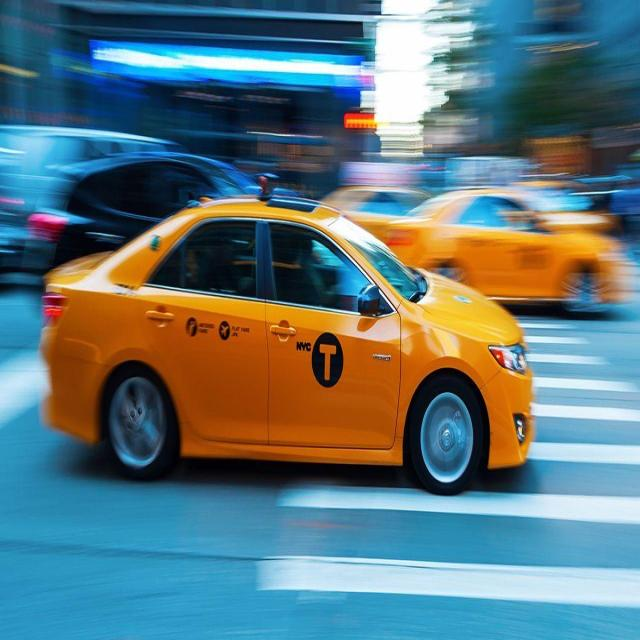Taxi: (21, 165, 542, 508)
